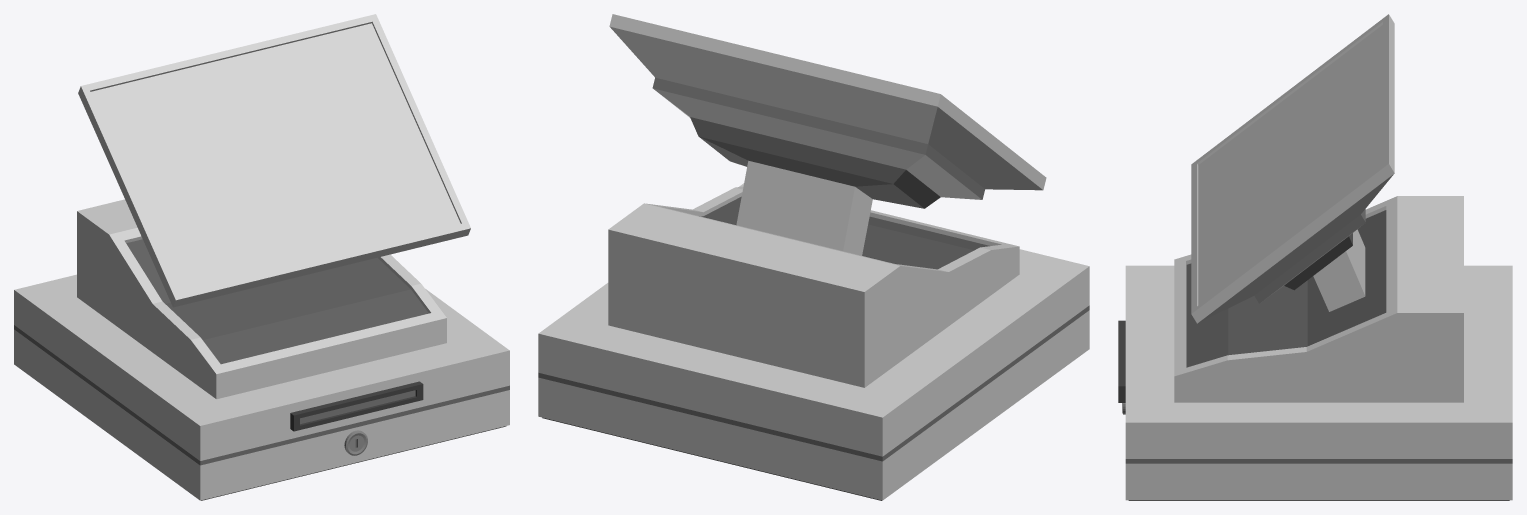
The model's file is Cash Register #3.fbx.
The picture shows the model from 3 angles, left to right: view 1: azimuth 30°, elevation 25°; view 2: azimuth 150°, elevation 25°; view 3: azimuth 270°, elevation 25°; orthographic projection. The views are drawn at different scales.
Visible parts, largest first — view 1: Cash Register #3; view 2: Cash Register #3; view 3: Cash Register #3.
Part boxes in pixels (x1,y1,x2,y2): Cash Register #3: (14, 14, 509, 500); Cash Register #3: (538, 14, 1089, 500); Cash Register #3: (1118, 14, 1512, 500).
Bounding box in the file's own units: 53.04 × 52.73 × 56.24.
Materials: 2 (2 with a texture image).
